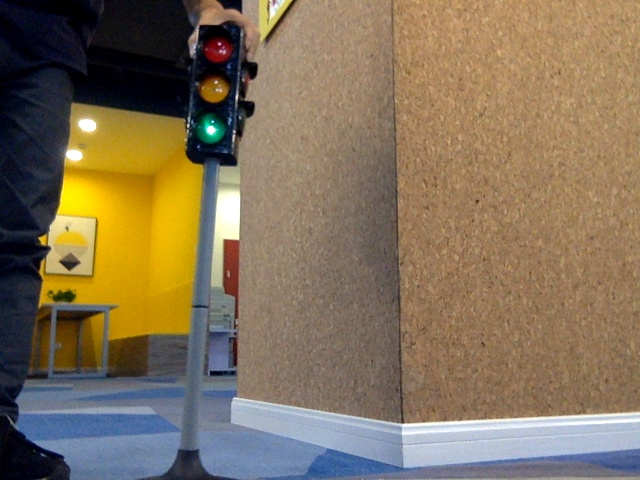green: (196, 27, 234, 151)
